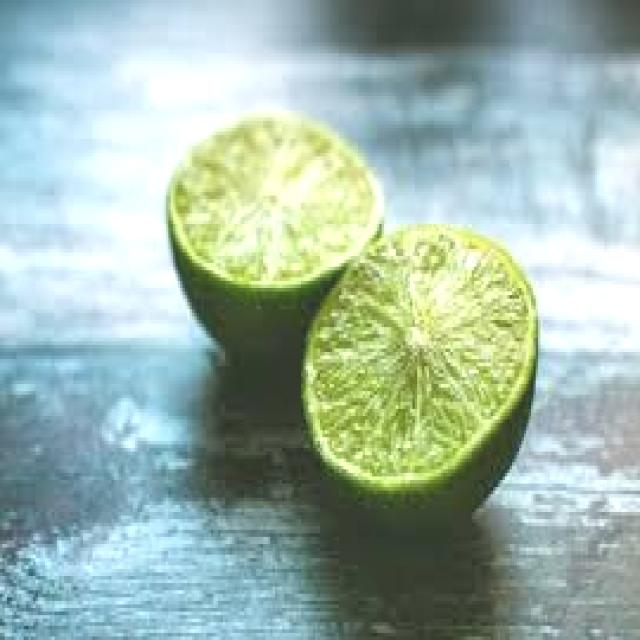jeruk: (283, 219, 550, 516), (148, 101, 390, 371)
